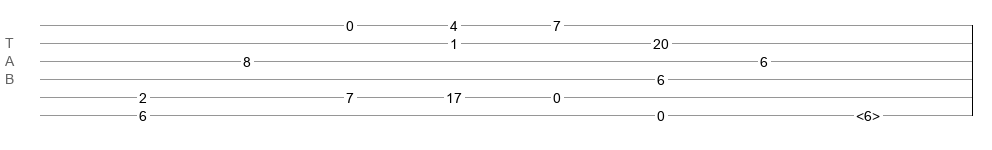0: (346, 18, 354, 28), (553, 90, 561, 100), (657, 108, 665, 118)
1: (450, 36, 458, 46)
17: (446, 90, 462, 100)
2: (139, 90, 147, 100)
20: (653, 36, 669, 46)
4: (450, 18, 458, 28)
6: (139, 108, 147, 118), (657, 72, 665, 82), (760, 54, 768, 64)
7: (346, 90, 354, 100), (553, 18, 561, 28)
8: (243, 54, 251, 64)
harmonic: (856, 108, 880, 118)
